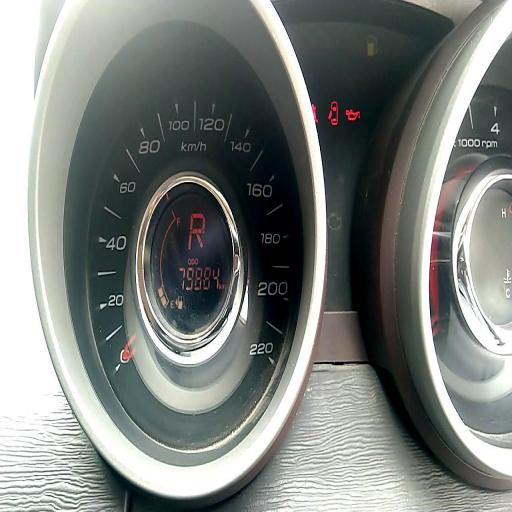oil: (345, 108, 361, 122)
